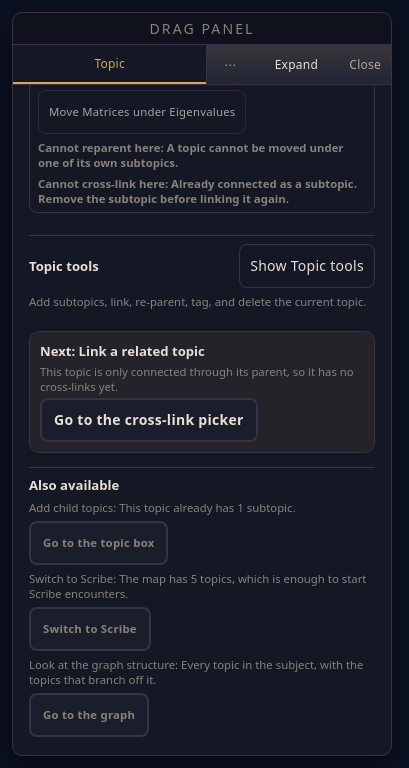
Scenario: the next action moves focus to the control that performs it › opens a collapsed region before moving focus into it
(page scrolled)
Expected: the button "Show Topic tools" is shown, [239,244,375,288]
Click the button "Go to the cross-link picker".
click(149, 420)  # box [40,398,258,442]
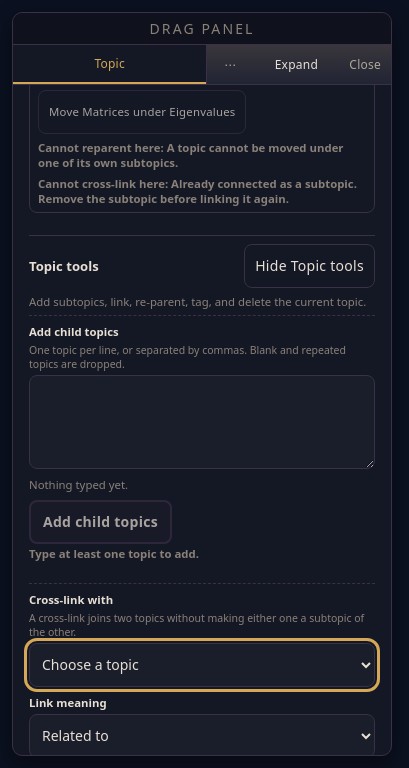
Expected: the button "Hide Topic tools" is shown, [244,244,375,288]
